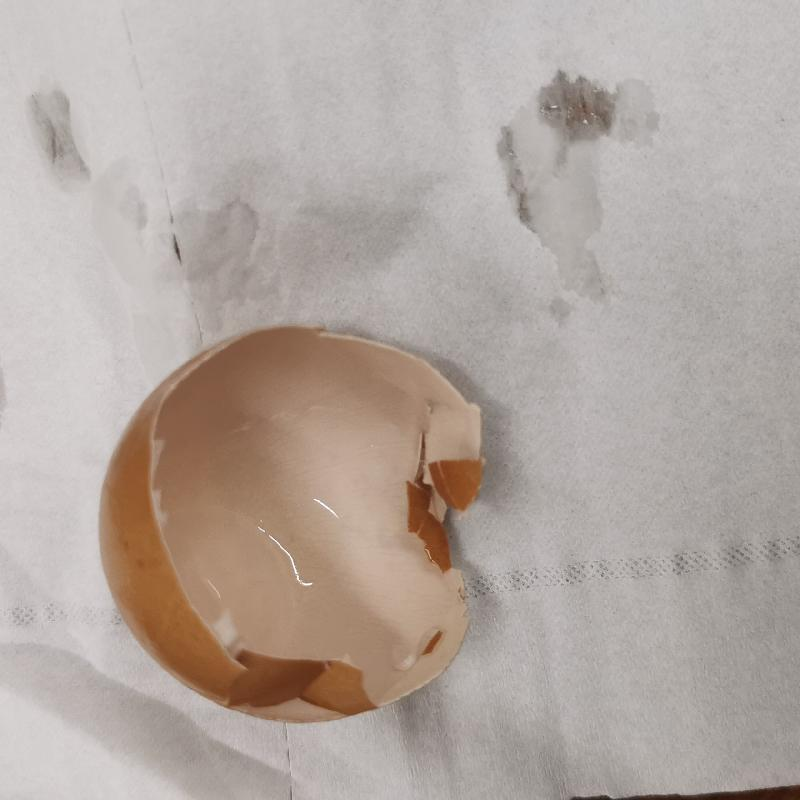eggshell: (94, 322, 494, 724)
